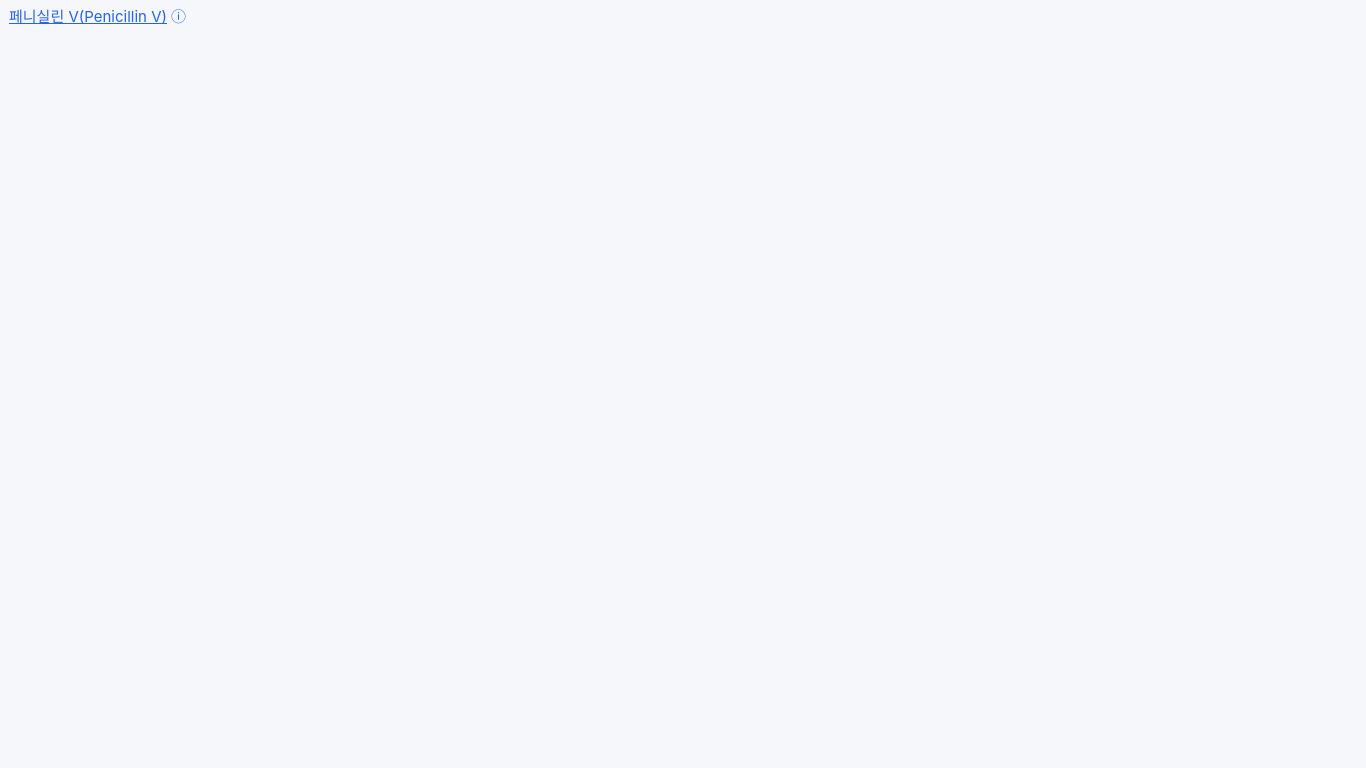
Scenario: MedicationDialog › shows the plain-language definition and the common medication safety notice
Click the button "페니실린 V(Penicillin V) ⓘ". click: (98, 17)
box: [0, 0, 195, 33]
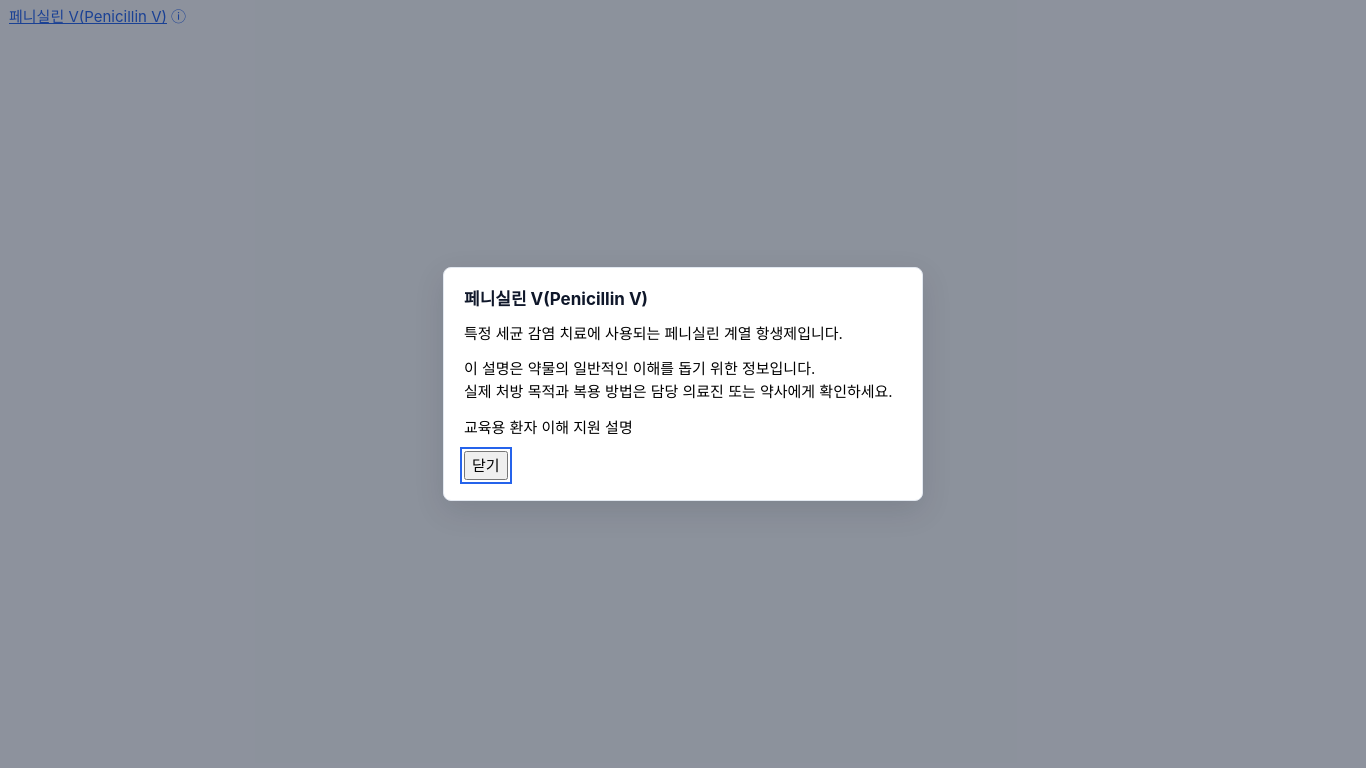
Expected: the text "특정 세균 감염 치료에 사용되는 페니실린 계열 항생제입니다." is shown, [464, 322, 902, 345]
Expected: the text "교육용 환자 이해 지원 설명" is shown, [464, 418, 633, 437]
